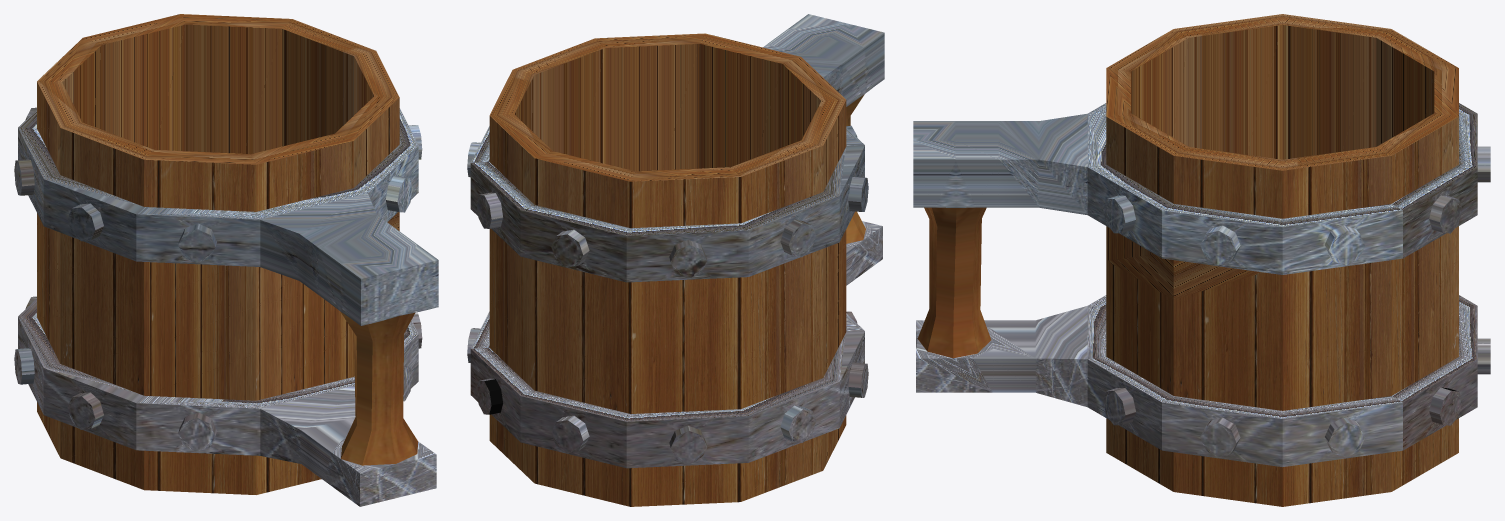
Rendered from mug (1).fbx.
3 views of the same model, side by side, from view 1: azimuth 30°, elevation 25°; view 2: azimuth 150°, elevation 25°; view 3: azimuth 270°, elevation 25° (orthographic). The views are drawn at different scales.
Visible parts, largest first — view 1: mug; view 2: mug; view 3: mug.
Boxes of the visible parts, left/top/right/bottom form: mug: left=14, top=14, right=438, bottom=506; mug: left=467, top=14, right=884, bottom=506; mug: left=913, top=14, right=1490, bottom=506.
Bounding box in the file's own units: 2.21 × 2 × 3.11.
Materials: 3 (2 with a texture image).
